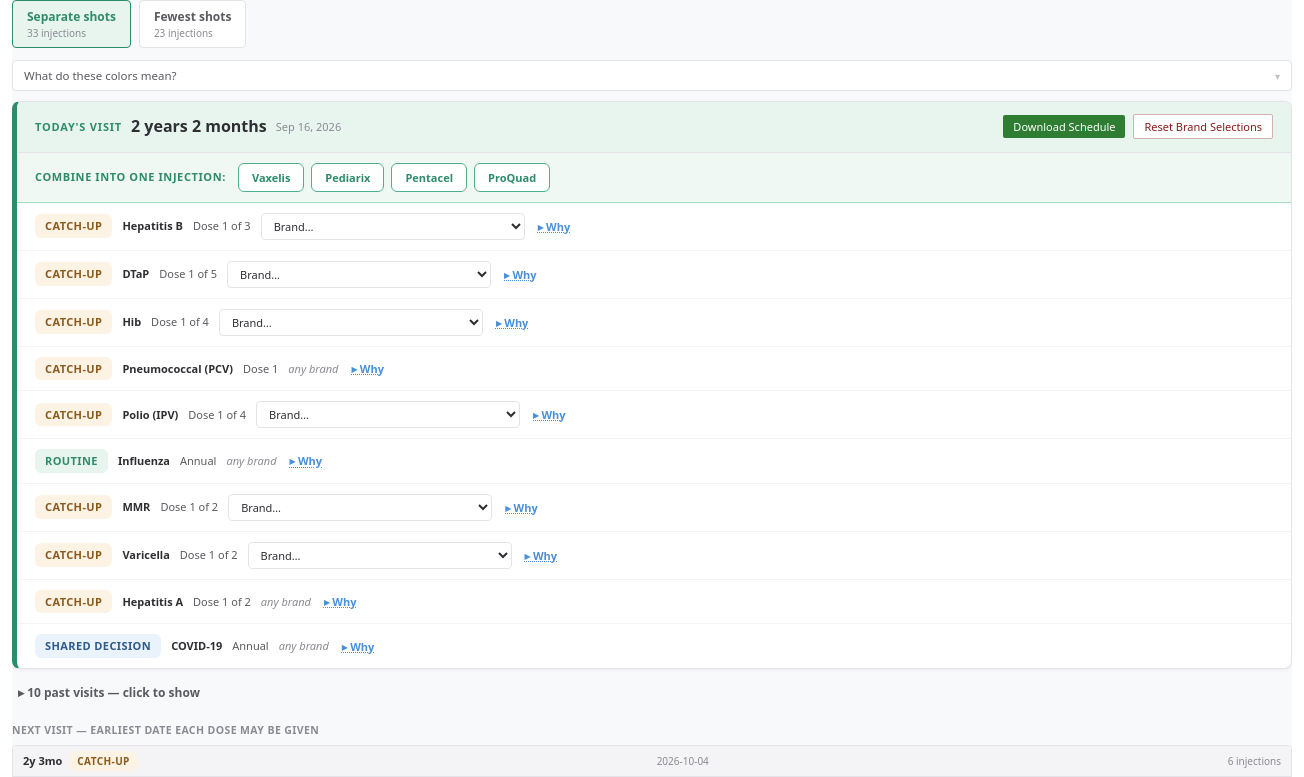
it: ForecastTab — card header format (Routine vs Fewest Injections consistency) › a Fewest Injections card is labeled by age, not "Visit N", and matches the Routine header shape
Click the button with class "fct-view-btn" showing "Fewest shots 23 injections" at (193, 24), box 139,0 -> 246,48
(page scrolled)
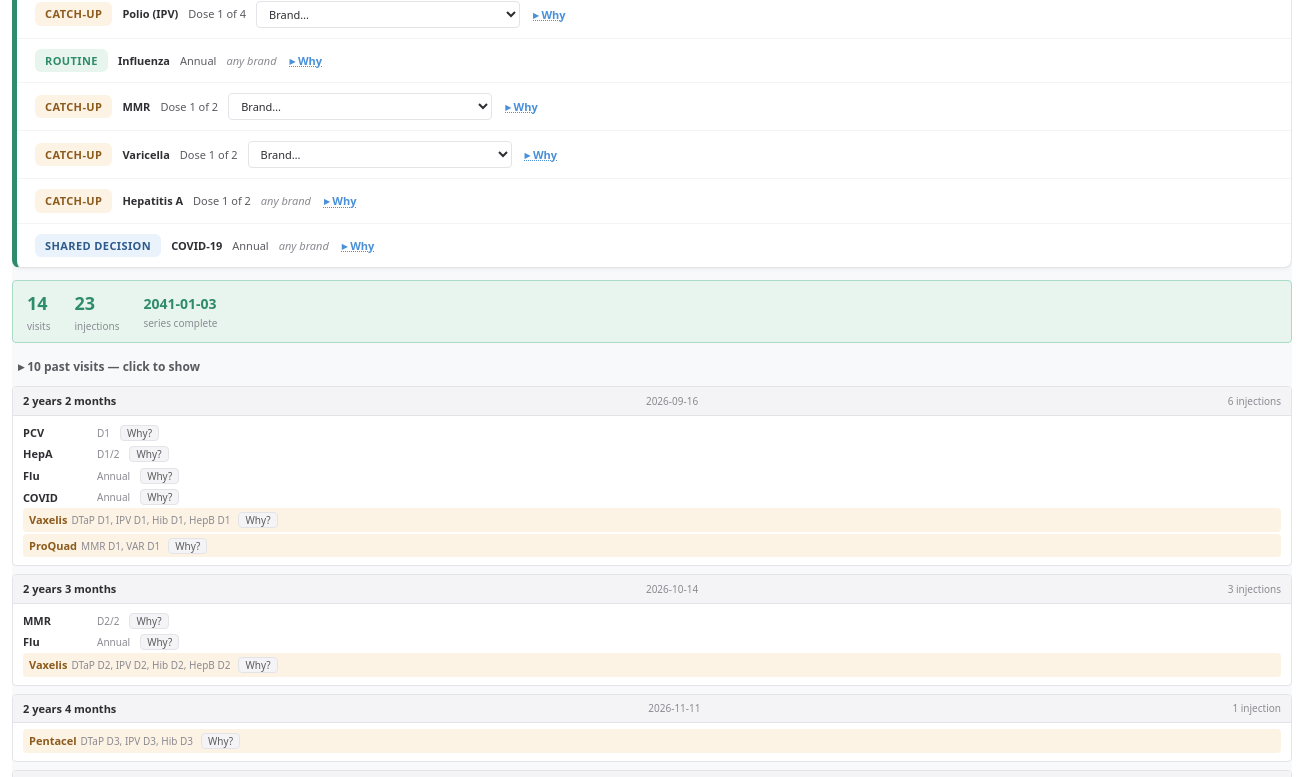
Check: the text "6 injections" is shown, box 1228,393 -> 1281,409
Check: the text "2026-09-16" is shown, box 646,393 -> 698,409
